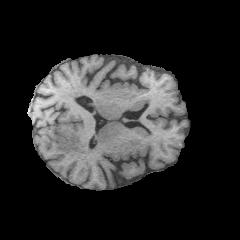glioma: (54, 132, 92, 155)
